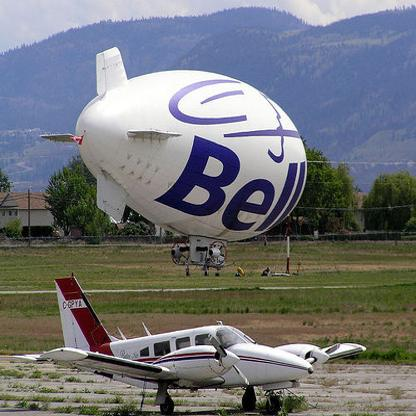Airship: (41, 44, 318, 276)
